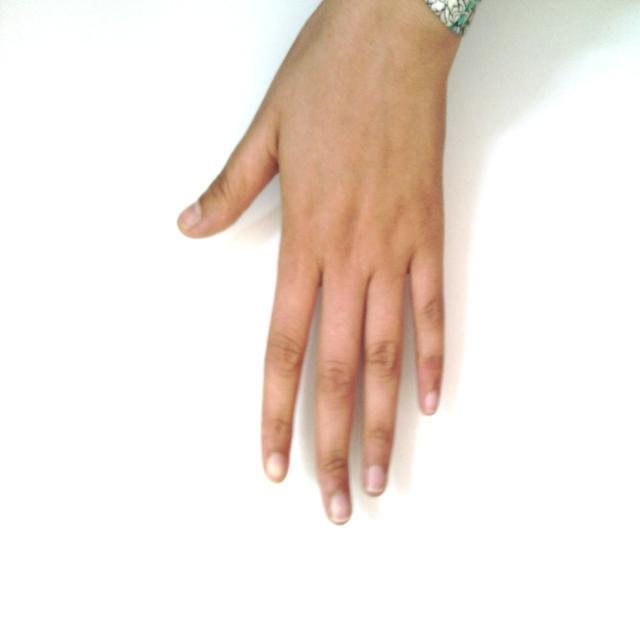Fingernail: (330, 494, 350, 524), (180, 203, 201, 230), (366, 466, 385, 494), (268, 455, 286, 481), (424, 392, 437, 414)
